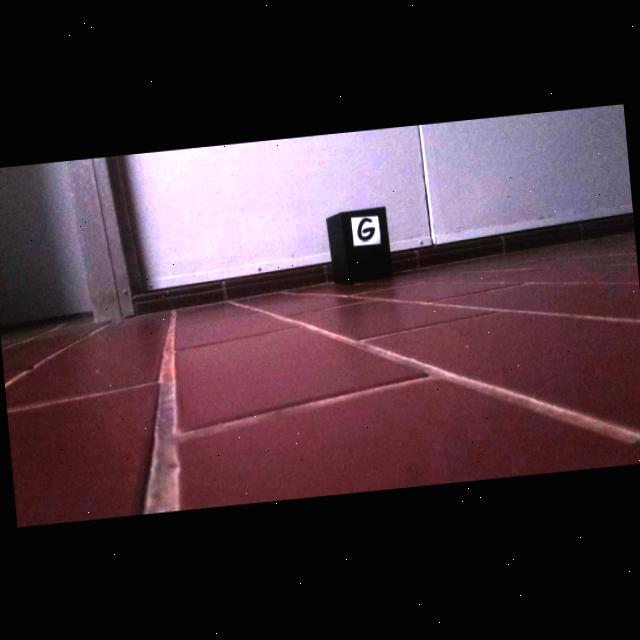G: (357, 219, 375, 242)
